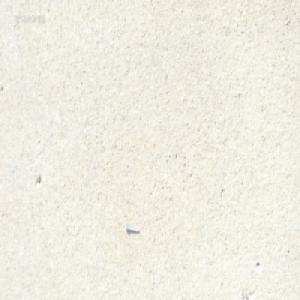Nail: (125, 223, 140, 233)
